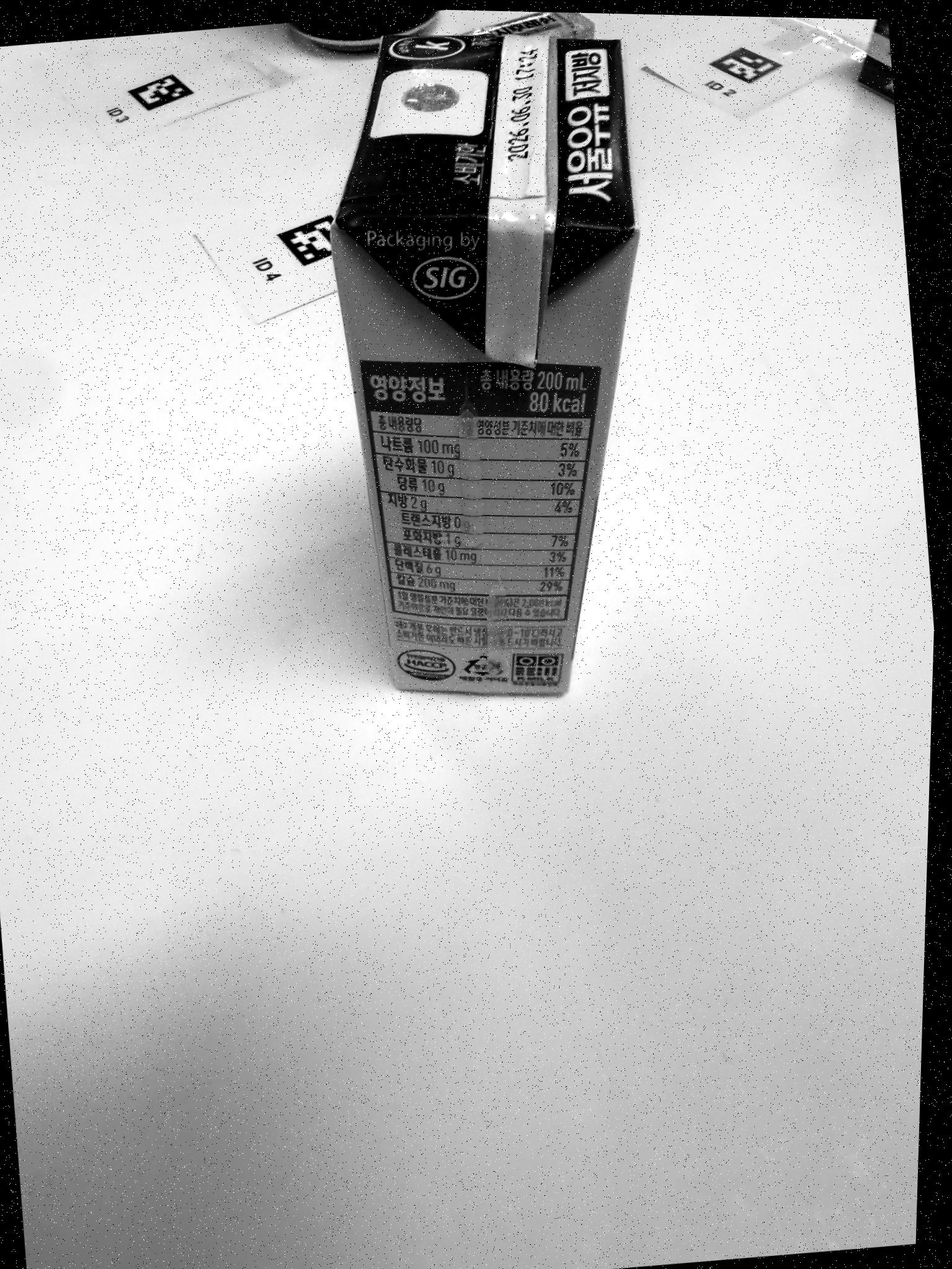milk_blue: (332, 34, 638, 696)
